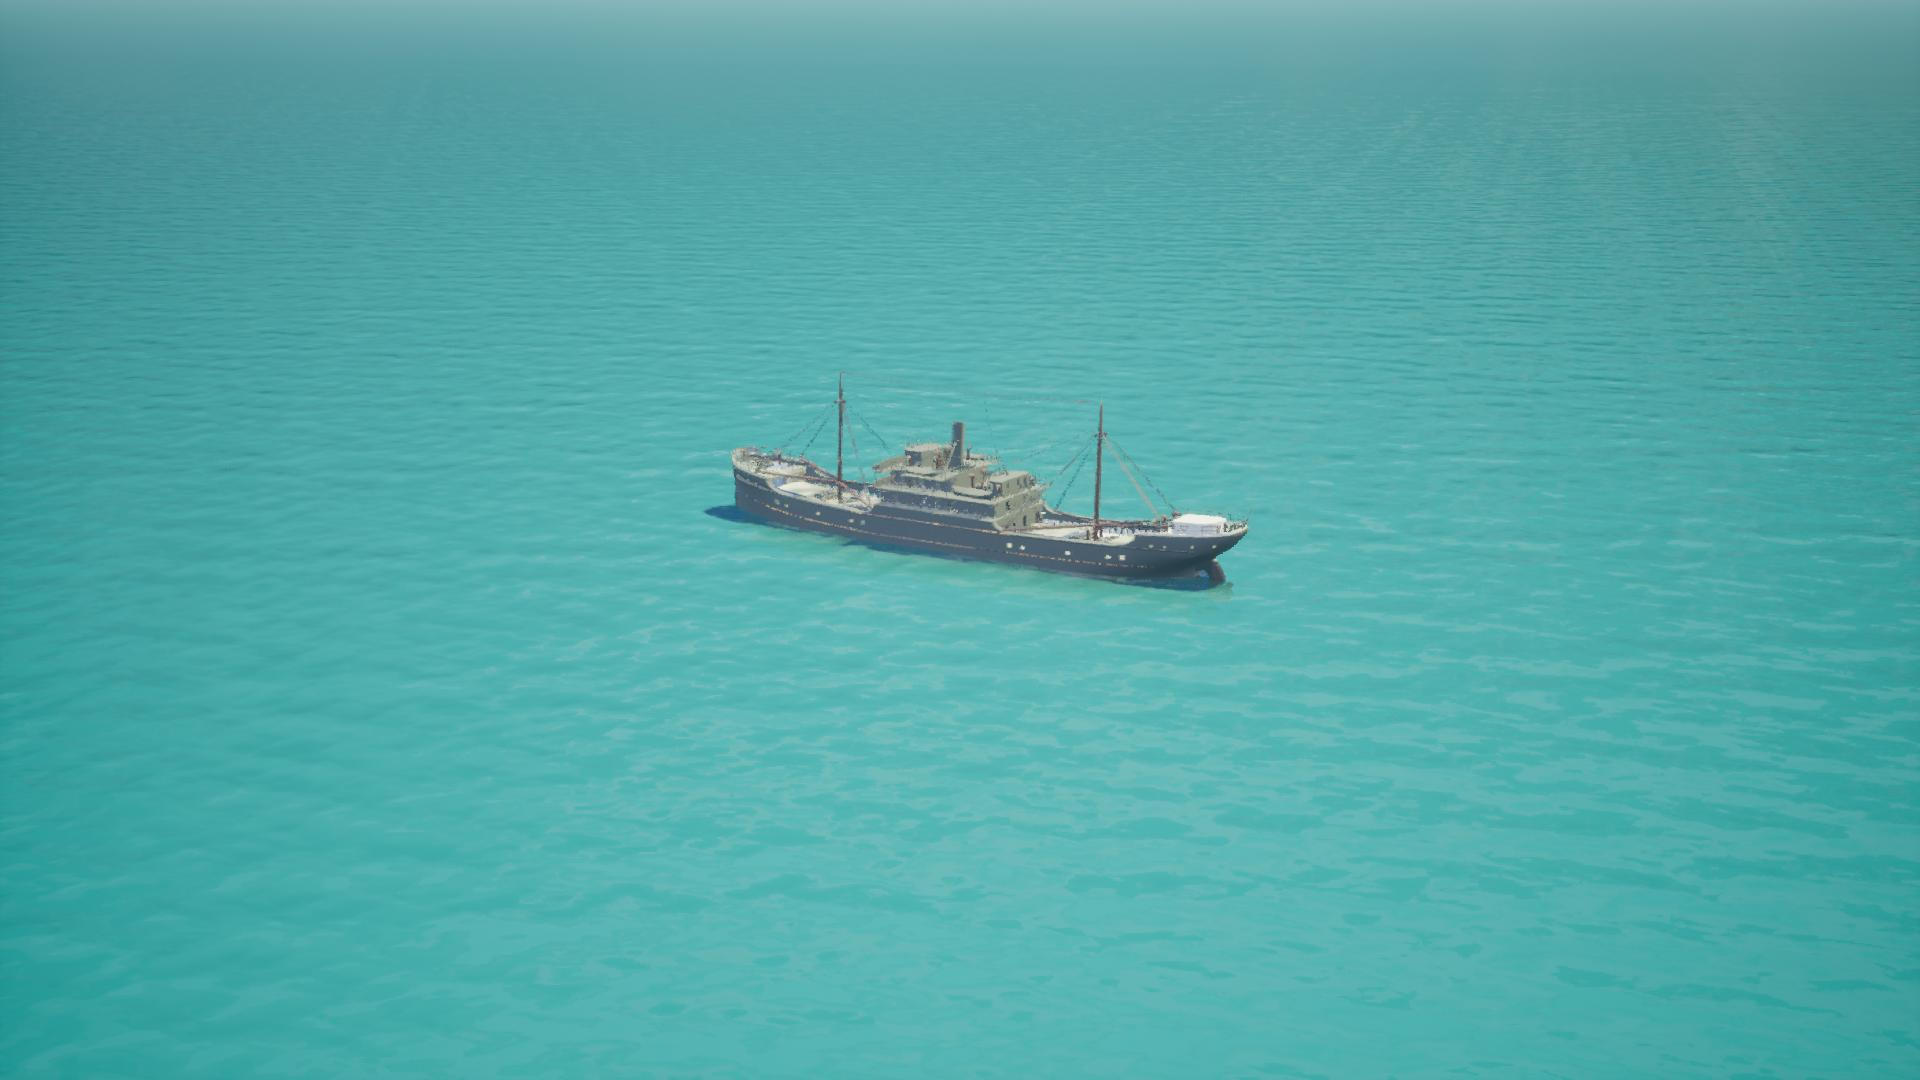Fishing Boat: (717, 380, 1245, 587)
